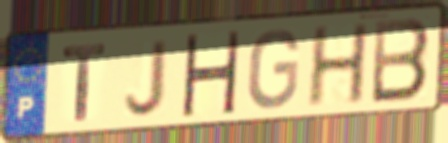B: (369, 16, 433, 107)
G: (245, 27, 302, 112)
H: (304, 20, 371, 110), (178, 31, 243, 117)
J: (122, 36, 171, 119)
T: (60, 41, 108, 124)
